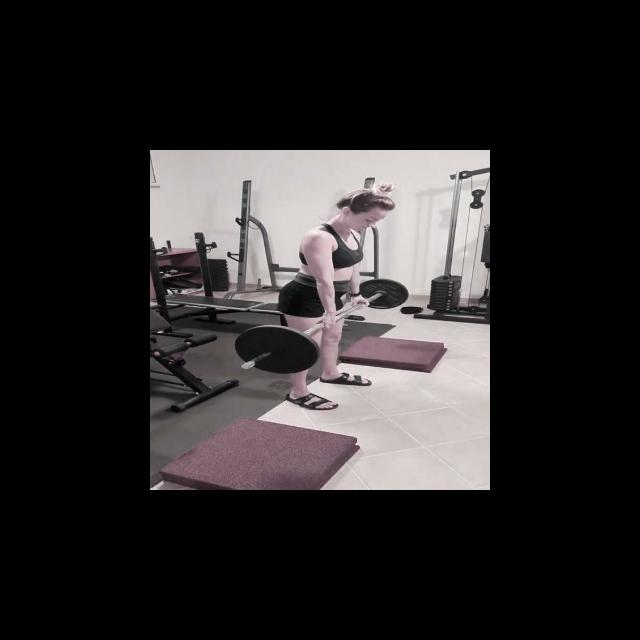barbell: (232, 323, 322, 375)
